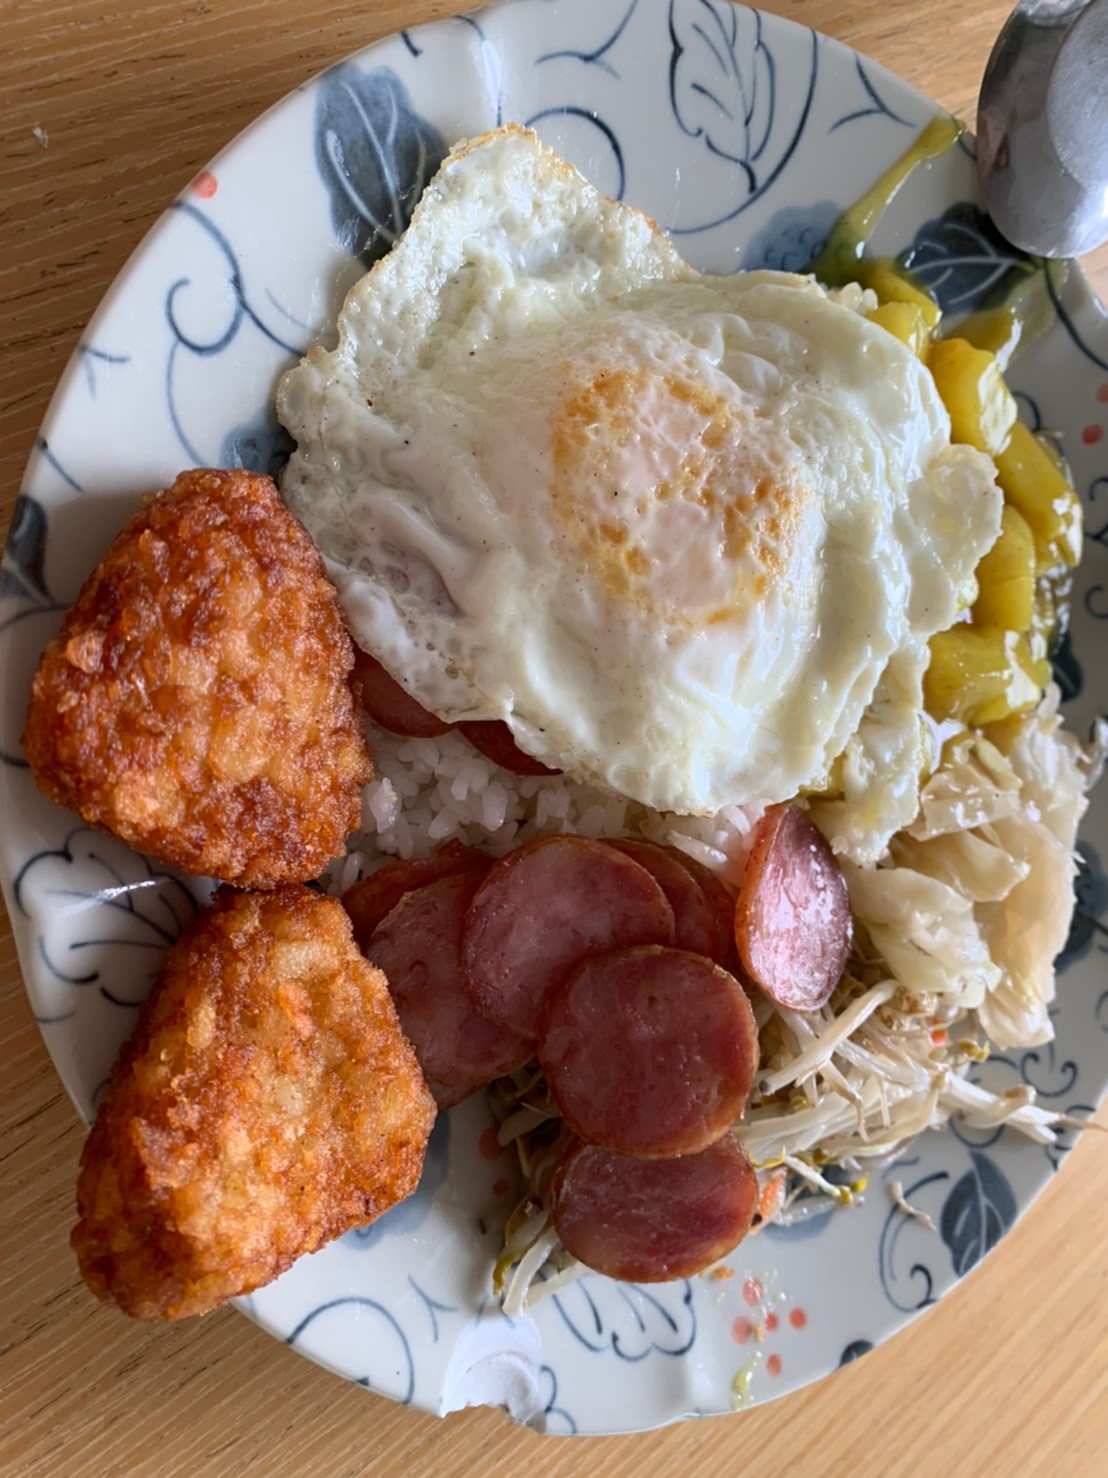chinese_cabbage: (887, 725, 1091, 1033)
chinese_sausage: (343, 801, 860, 1284)
curry: (922, 296, 1091, 723)
fried_eggs: (279, 121, 1004, 820)
mung_bean_sprouts: (752, 1007, 1018, 1203)
rice: (363, 729, 587, 857)
triangle_hash_brown: (20, 461, 439, 1326)
